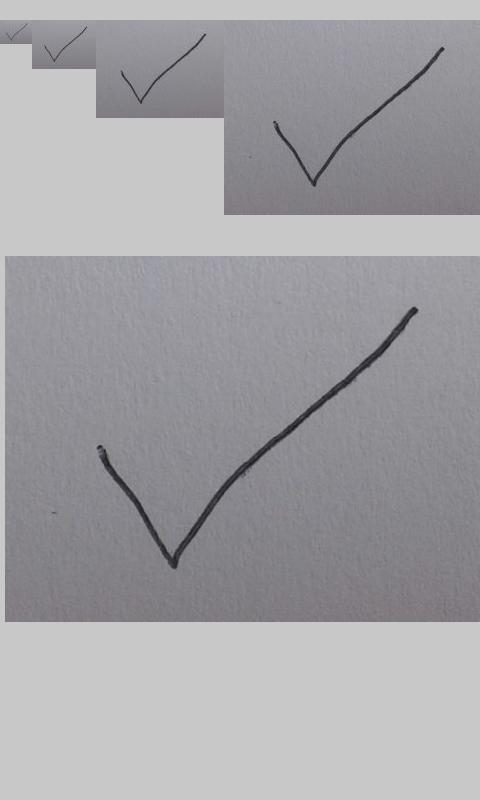check_box: (96, 308, 419, 568), (274, 47, 443, 187), (120, 34, 206, 104), (44, 26, 87, 62), (6, 23, 27, 41)
